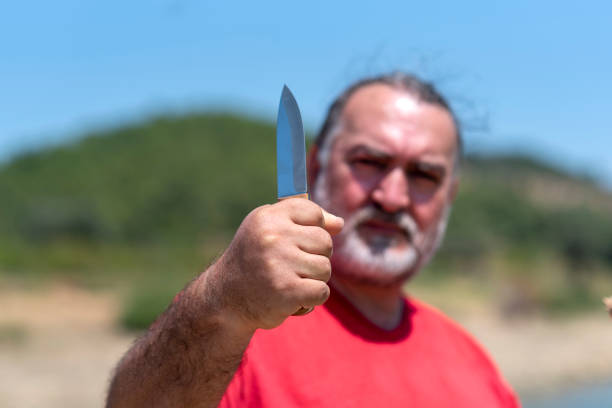knife: (275, 80, 309, 199)
